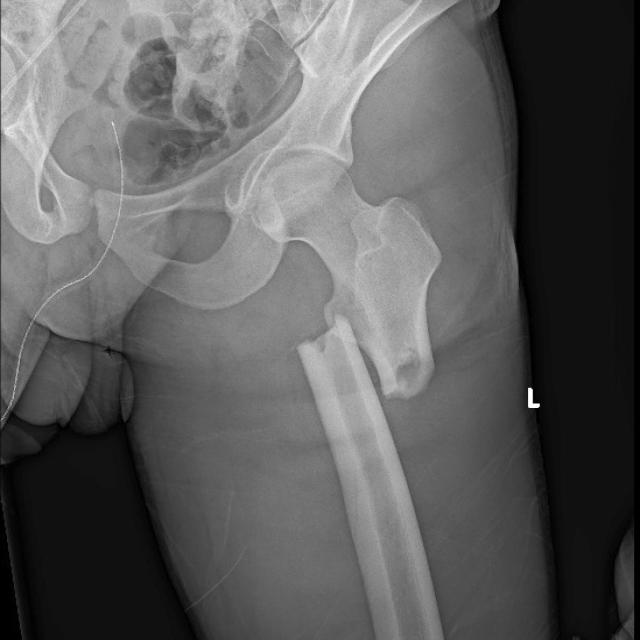left-subtrochanteric: (256, 154, 442, 400), (297, 313, 398, 469)
